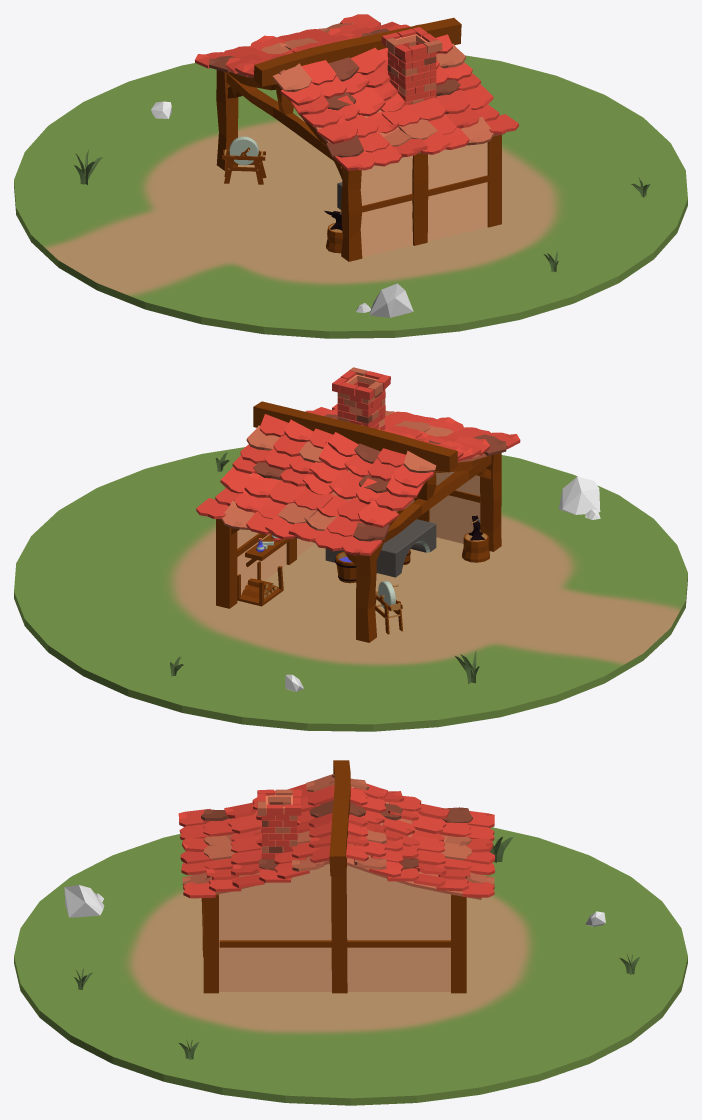
The model's file is Forge.fbx.
3 renders of one model, top to bottom at view 1: azimuth 30°, elevation 25°; view 2: azimuth 150°, elevation 25°; view 3: azimuth 270°, elevation 25°, orthographic.
Parts seen in each view (by area): view 1: Ground, Roof, Frame, Wall, Roof.001, Furnace, Grinding Wheel, Rock.001; view 2: Ground, Roof.001, Frame, Furnace, Wall, Roof, Rock.001, Grinding Wheel, Wood Store, Stump; view 3: Ground, Wall, Roof.001, Roof, Frame, Furnace, Rock.001, Cube.020.
Boxes of the visible parts, <box> form: Ground: <box>14,55,687,338</box>; Roof: <box>272,34,518,170</box>; Frame: <box>216,17,501,261</box>; Wall: <box>360,142,487,257</box>; Roof.001: <box>195,14,421,77</box>; Furnace: <box>337,27,442,209</box>; Grinding Wheel: <box>222,136,266,184</box>; Rock.001: <box>369,283,413,317</box>; Ground: <box>14,447,687,731</box>; Roof.001: <box>196,414,436,555</box>; Frame: <box>216,401,501,642</box>; Furnace: <box>325,367,436,577</box>; Wall: <box>237,472,480,595</box>; Roof: <box>305,403,520,461</box>; Rock.001: <box>558,476,600,514</box>; Grinding Wheel: <box>375,580,402,634</box>; Wood Store: <box>237,561,283,606</box>; Stump: <box>462,532,489,562</box>; Ground: <box>14,827,687,1105</box>; Wall: <box>219,863,450,991</box>; Roof.001: <box>332,774,495,897</box>; Roof: <box>178,774,334,898</box>; Frame: <box>201,760,466,993</box>; Furnace: <box>257,789,301,859</box>; Rock.001: <box>64,885,104,917</box>; Cube.020: <box>347,801,481,899</box>.
Bounding box in the file's own units: 2500 × 2500 × 723.
